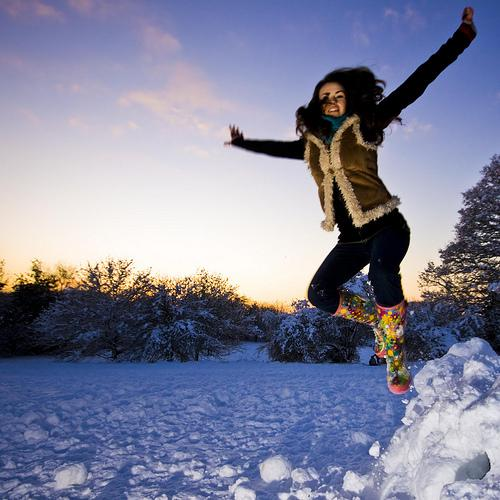person: (223, 10, 481, 393)
